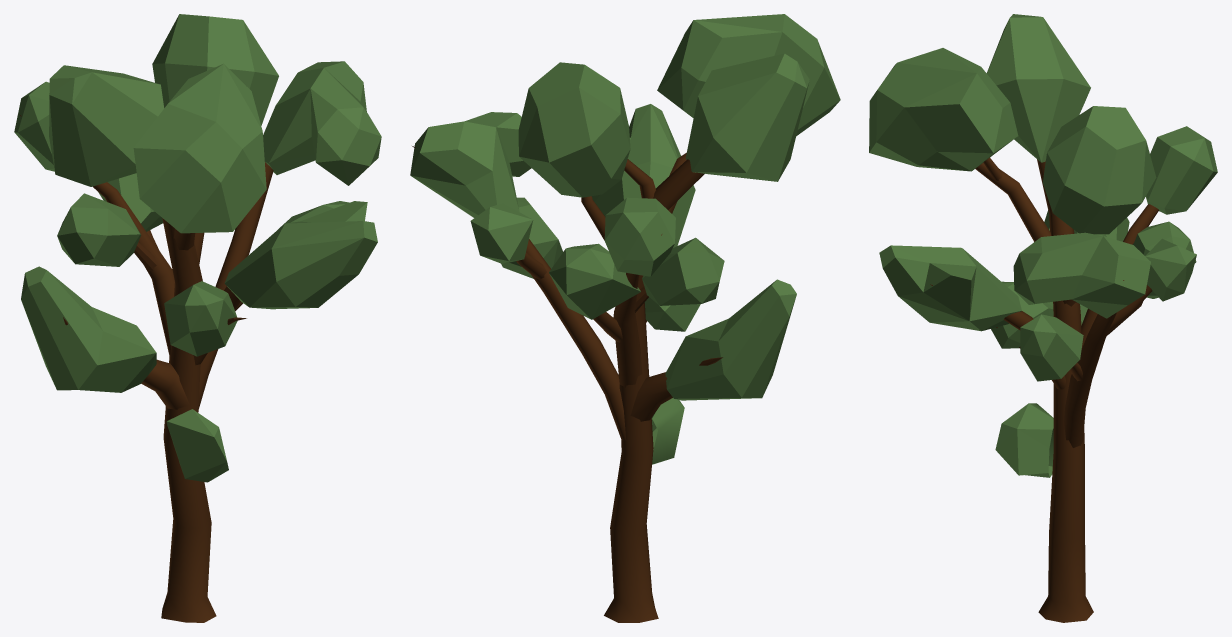
The model's file is SM_SmallTree_01_LOD1.fbx.
The picture shows the model from 3 angles, left to right: view 1: azimuth 30°, elevation 25°; view 2: azimuth 150°, elevation 25°; view 3: azimuth 270°, elevation 25°; orthographic projection. The views are drawn at different scales.
Visible parts, largest first — view 1: SM_SmallTree_01_LOD1; view 2: SM_SmallTree_01_LOD1; view 3: SM_SmallTree_01_LOD1.
Part boxes in pixels (left/top/right/bottom): SM_SmallTree_01_LOD1: left=14, top=14, right=381, bottom=622; SM_SmallTree_01_LOD1: left=410, top=14, right=840, bottom=622; SM_SmallTree_01_LOD1: left=869, top=14, right=1217, bottom=622.
Size of the model in its own units: 2.94 by 4.55 by 2.67.
